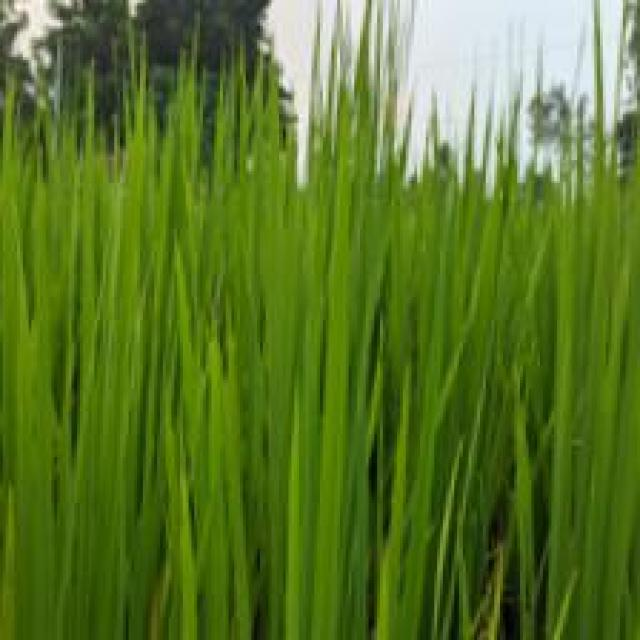HealthyLeaf: (583, 442, 635, 638), (310, 454, 342, 637)
